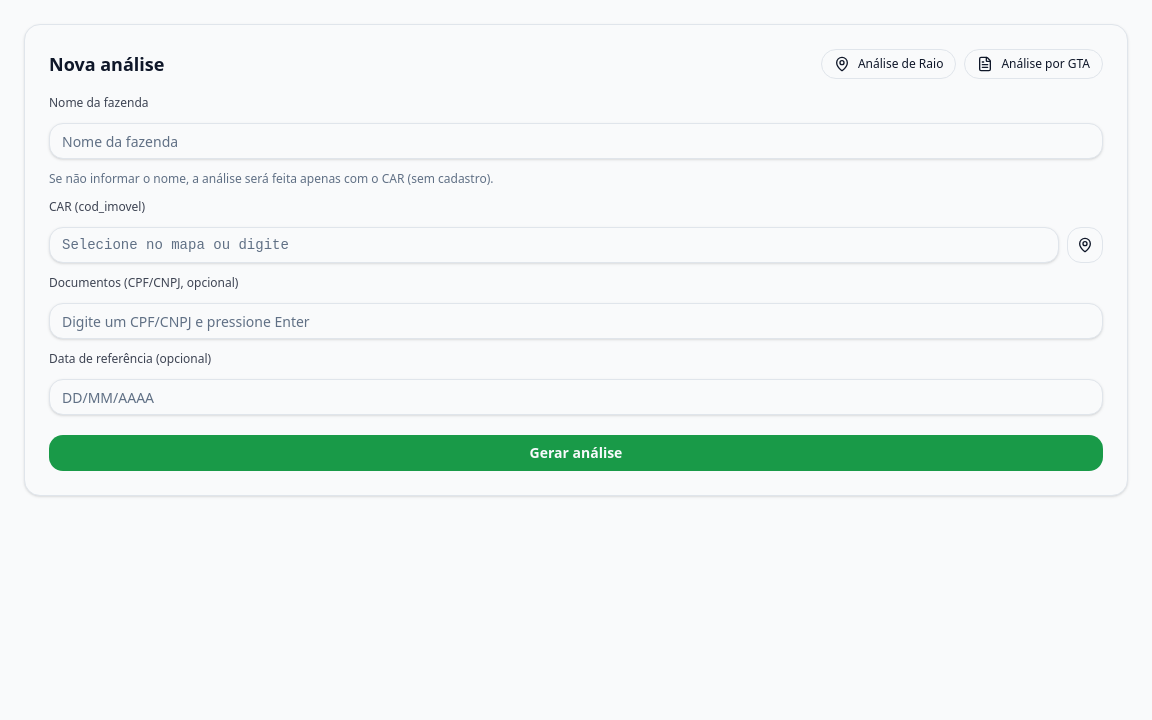
Scenario: NewAnalysisView › auto-fills farm data on blur when carKey is complete
In the field with id "analysis-car": (554, 245) [49, 227, 1059, 263], type "SP-1234567-0000000000000000000000000000000000"
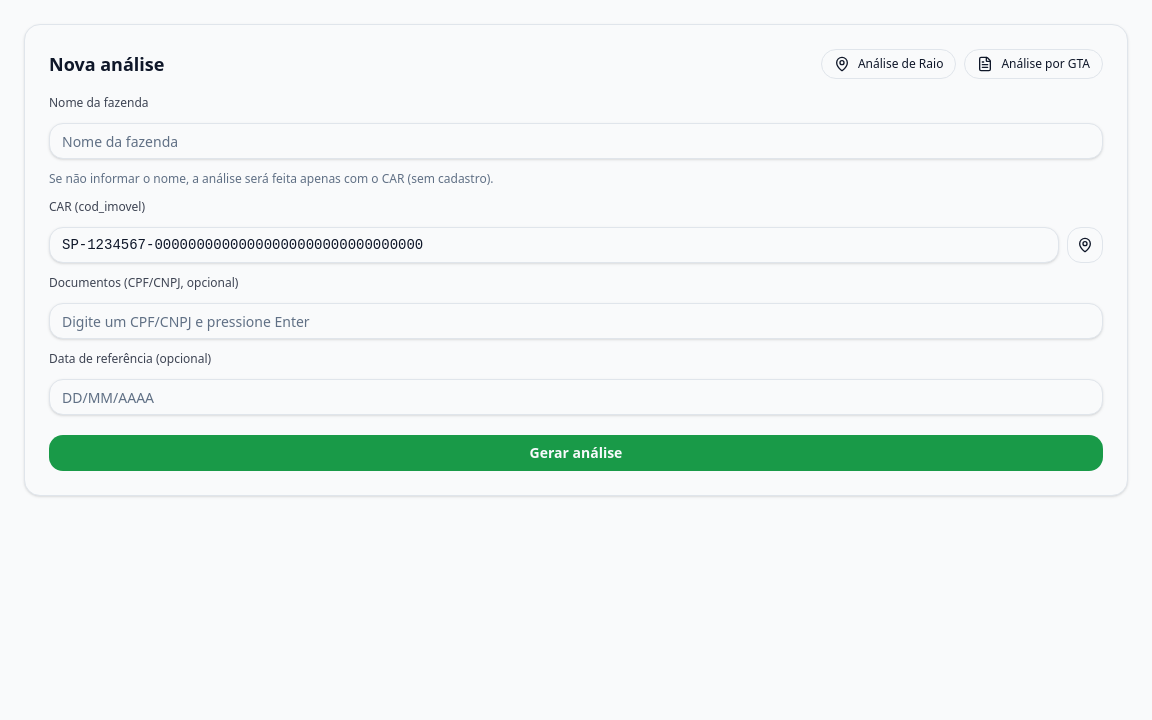
Leave the field with id "analysis-car", box [49, 227, 1059, 263]
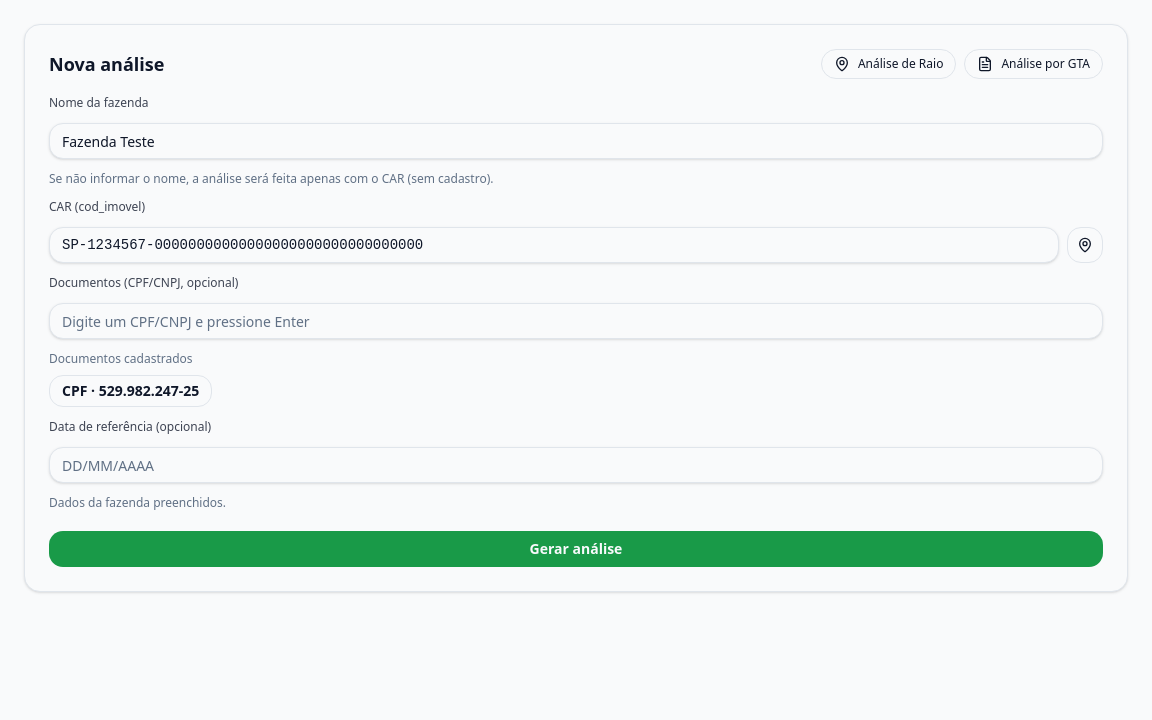
Check: the field with id "analysis-name" holds "Fazenda Teste", box [49, 123, 1103, 159]
